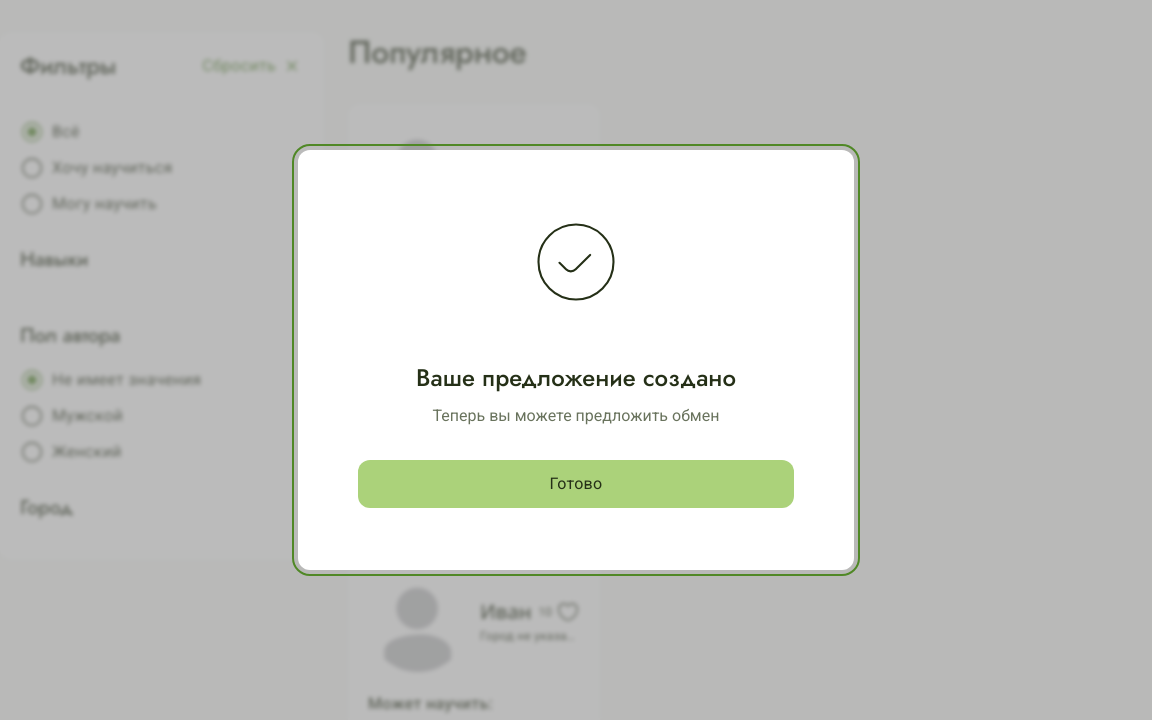
Test: CatalogPage › показывает окно регистрации один раз и удаляет флаг из истории
The width and height of the screenshot is (1152, 720).
Expected: the dialog "Ваше предложение создано" is shown, [298,150,854,570]
Click the button "Готово" at coordinates (576, 484), box [358,460,794,508]
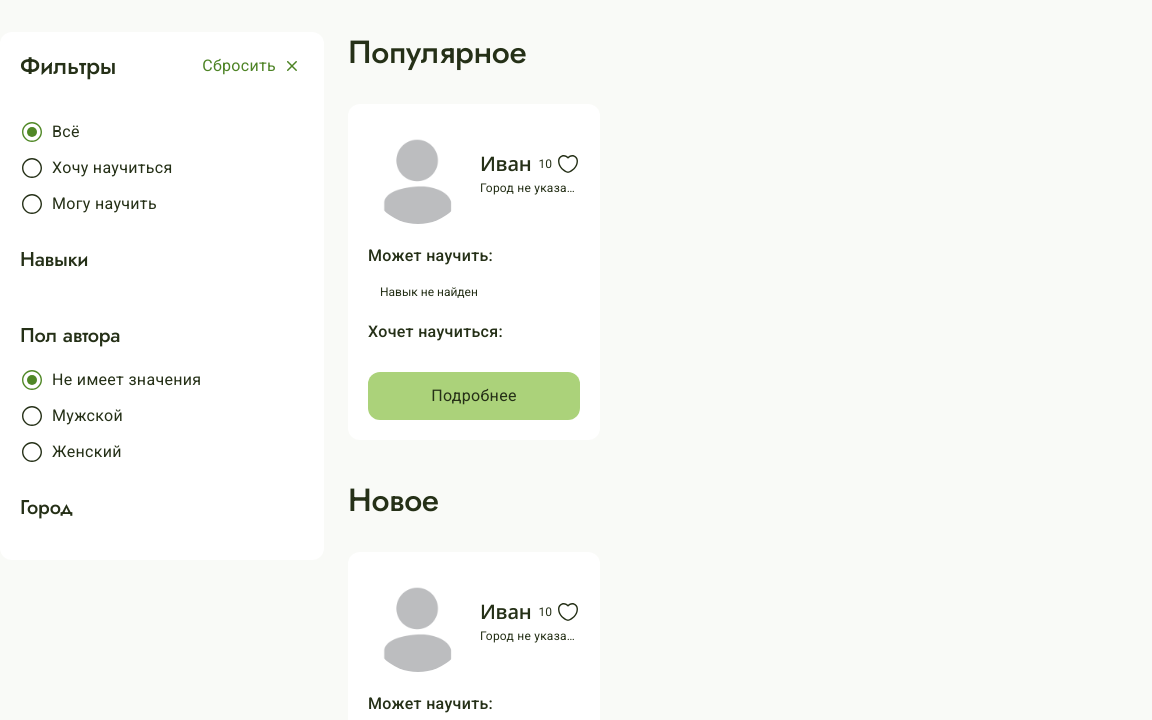
Result: the heading "Ваше предложение создано" is gone
